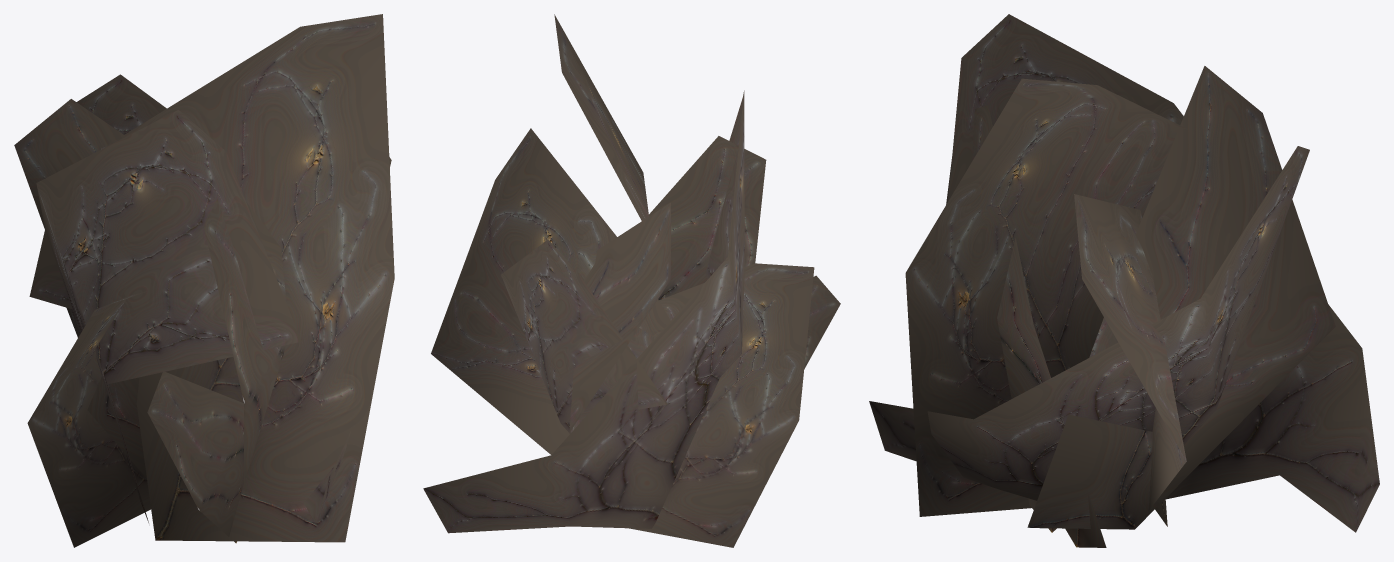
File: Bush_2.fbx
3 views of the same model, side by side, from view 1: azimuth 30°, elevation 25°; view 2: azimuth 150°, elevation 25°; view 3: azimuth 270°, elevation 25° (orthographic). The views are drawn at different scales.
Parts seen in each view (by area): view 1: Bush_2; view 2: Bush_2; view 3: Bush_2.
Part boxes in pixels (bbox=[...]): Bush_2: bbox=[14, 14, 394, 547]; Bush_2: bbox=[423, 14, 840, 547]; Bush_2: bbox=[869, 14, 1379, 547].
Size of the model in its own units: 0.9999 by 1.29 by 1.14.
